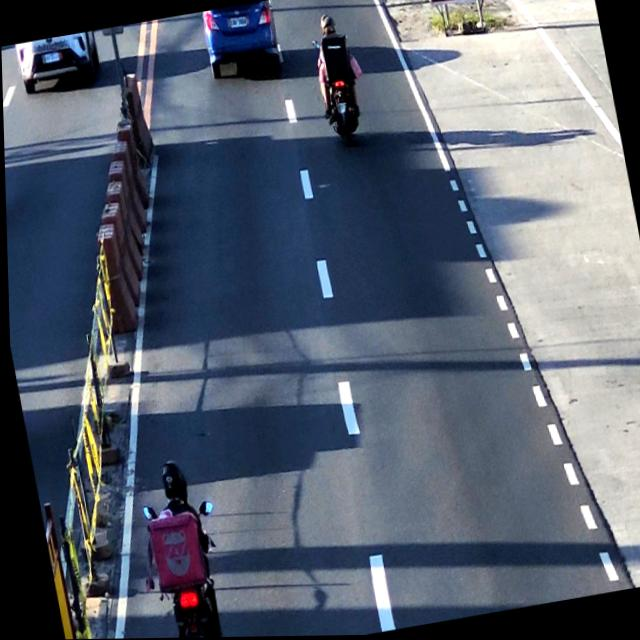Car: (199, 1, 285, 81)
License-Plate: (227, 13, 248, 31)
Motorcycle: (132, 462, 229, 639), (311, 12, 370, 149)
